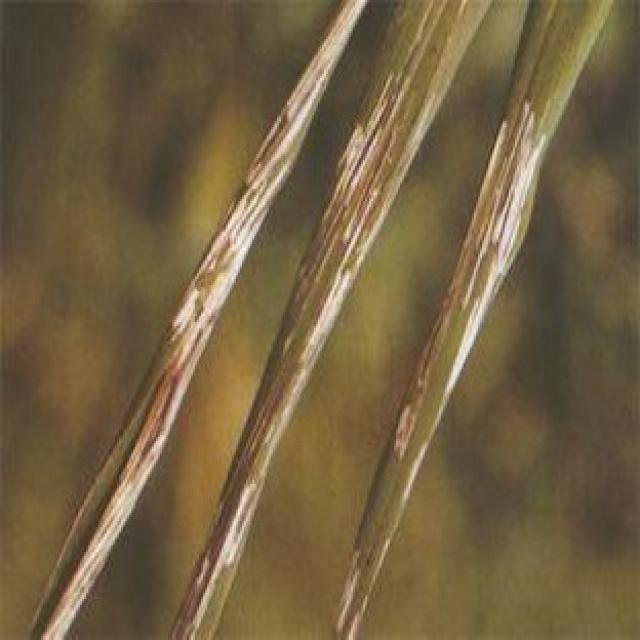rice leaf roller: (41, 0, 365, 638), (181, 0, 476, 638), (390, 101, 546, 459), (336, 531, 361, 634)
